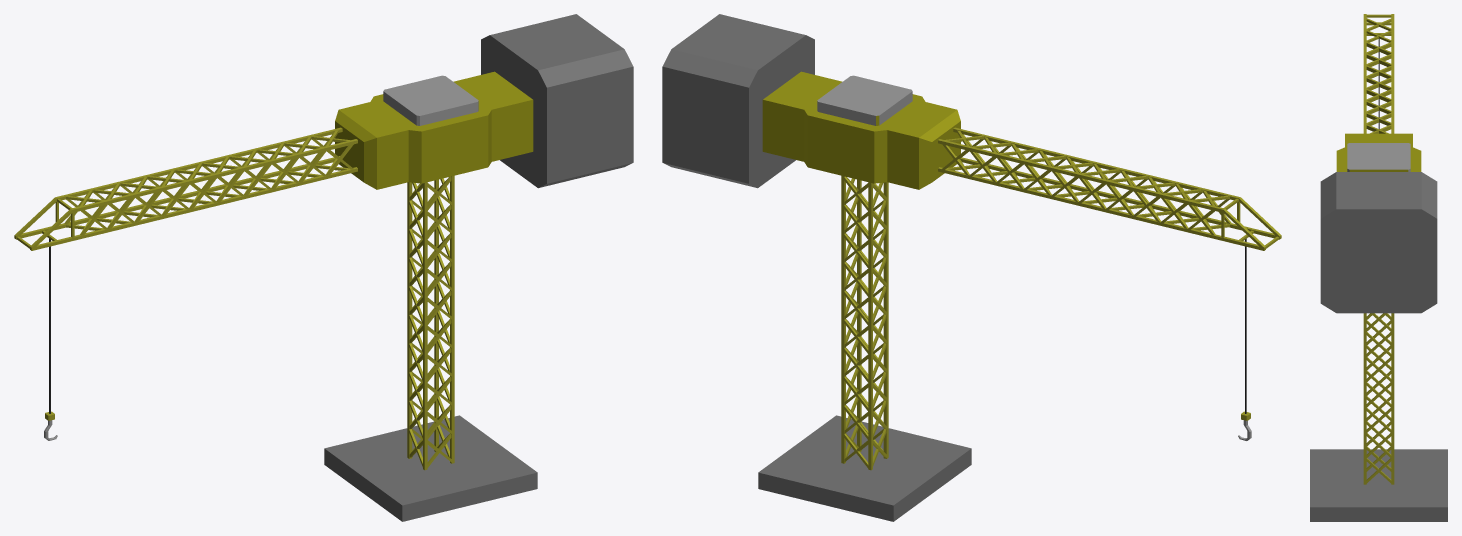
File: Crane.fbx
The picture shows the model from 3 angles, left to right: view 1: azimuth 30°, elevation 25°; view 2: azimuth 150°, elevation 25°; view 3: azimuth 270°, elevation 25°; orthographic projection. The views are drawn at different scales.
Parts seen in each view (by area): view 1: Cube.175, Cube.026, Cube, Cube.176, Cube.090, Cube.089, Cube.088, Cube.003, Cube.004, Cube.001, Cube.087, Cube.002; view 2: Cube.175, Cube.026, Cube, Cube.176, Cube.088, Cube.087, Cube.090, Cube.001, Cube.002, Cube.003, Cube.089, Cube.004; view 3: Cube.175, Cube, Cube.176, Cube.026, Cube.002, Cube.004, Cube.088, Cube.090.
Part boxes in pixels (x1,y1,x2,y2): Cube.175: (481, 14, 633, 188); Cube.026: (335, 71, 533, 189); Cube: (324, 415, 537, 521); Cube.176: (383, 75, 478, 125); Cube.090: (30, 139, 357, 250); Cube.089: (32, 167, 357, 250); Cube.088: (14, 127, 342, 239); Cube.003: (423, 182, 427, 470); Cube.004: (450, 175, 454, 463); Cube.001: (407, 182, 412, 458); Cube.087: (16, 156, 342, 239); Cube.002: (434, 179, 438, 451); Cube.175: (662, 14, 814, 188); Cube.026: (762, 71, 960, 189); Cube: (758, 415, 971, 521); Cube.176: (817, 75, 912, 125); Cube.088: (938, 139, 1265, 250); Cube.087: (938, 167, 1263, 250); Cube.090: (953, 127, 1281, 239); Cube.001: (868, 182, 872, 470); Cube.002: (841, 175, 845, 463); Cube.003: (883, 182, 888, 458); Cube.089: (953, 156, 1279, 239); Cube.004: (857, 179, 861, 451); Cube.175: (1320, 172, 1437, 313); Cube: (1310, 449, 1447, 521); Cube.176: (1347, 143, 1410, 171); Cube.026: (1336, 133, 1421, 171); Cube.002: (1391, 313, 1394, 484); Cube.004: (1363, 313, 1366, 484); Cube.088: (1391, 14, 1394, 133); Cube.090: (1363, 14, 1366, 133).
Size of the model in its own units: 3866 by 2583 by 906.
